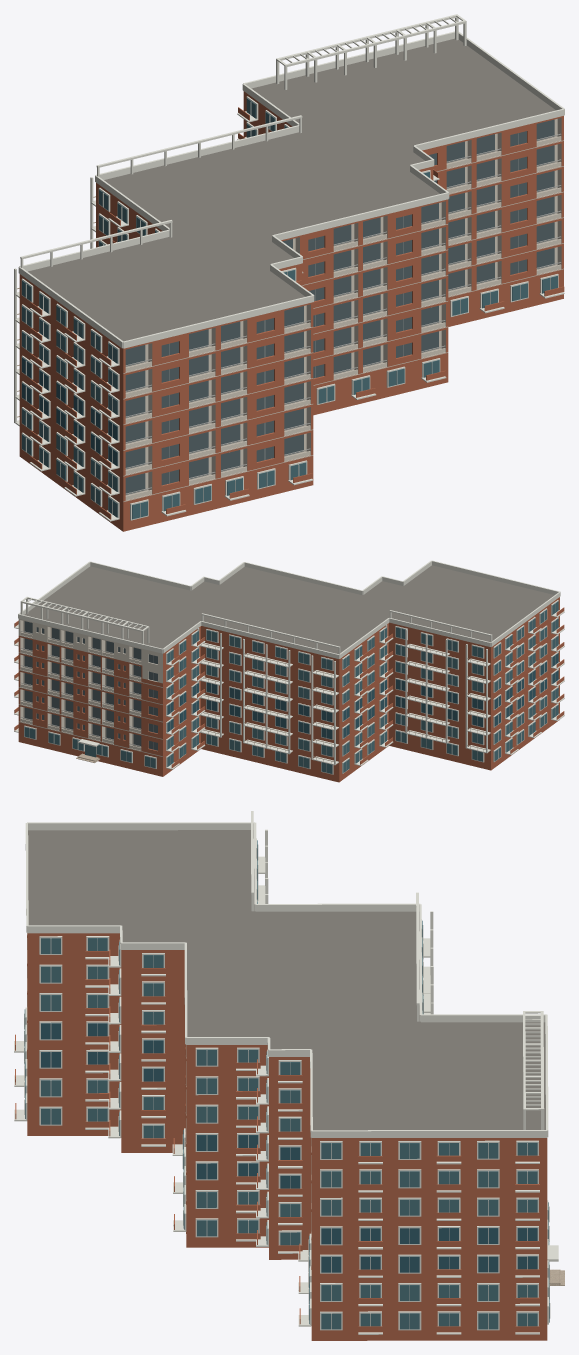
The model's file is chunk-dorm-way-1076517223.glb.
3 renders of one model, top to bottom at view 1: azimuth 30°, elevation 25°; view 2: azimuth 150°, elevation 25°; view 3: azimuth 270°, elevation 25°, orthographic. The views are drawn at different scales.
Parts seen in each view (by area): view 1: chunk-dorm-way-1076517223; view 2: chunk-dorm-way-1076517223; view 3: chunk-dorm-way-1076517223.
Boxes of the visible parts, left/top/right/bottom form: chunk-dorm-way-1076517223: left=14, top=14, right=564, bottom=531; chunk-dorm-way-1076517223: left=14, top=560, right=564, bottom=782; chunk-dorm-way-1076517223: left=14, top=811, right=564, bottom=1340.
Bounding box in the file's own units: 79.41 × 26.78 × 57.98.
9 materials, 1 textured.
